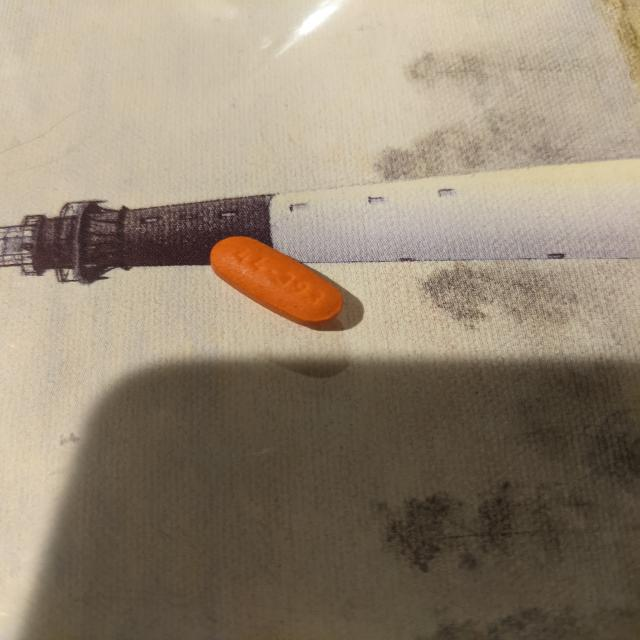non-organic waste: (208, 234, 345, 328)
